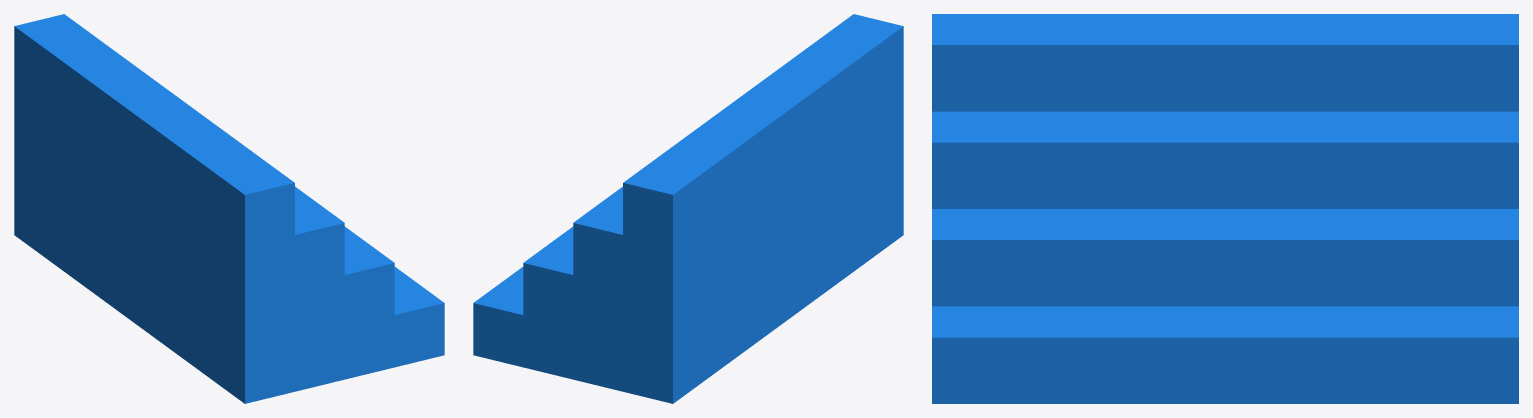
File: Proto_Block_Stairs_03.fbx
The picture shows the model from 3 angles, left to right: view 1: azimuth 30°, elevation 25°; view 2: azimuth 150°, elevation 25°; view 3: azimuth 270°, elevation 25°; orthographic projection. The views are drawn at different scales.
Parts seen in each view (by area): view 1: Proto_Block_Stairs_03; view 2: Proto_Block_Stairs_03; view 3: Proto_Block_Stairs_03.
Part boxes in pixels (bbox=[...]): Proto_Block_Stairs_03: bbox=[14, 14, 444, 403]; Proto_Block_Stairs_03: bbox=[473, 14, 903, 403]; Proto_Block_Stairs_03: bbox=[932, 14, 1518, 403].
Bounding box in the file's own units: 0.5 × 0.5 × 1.
